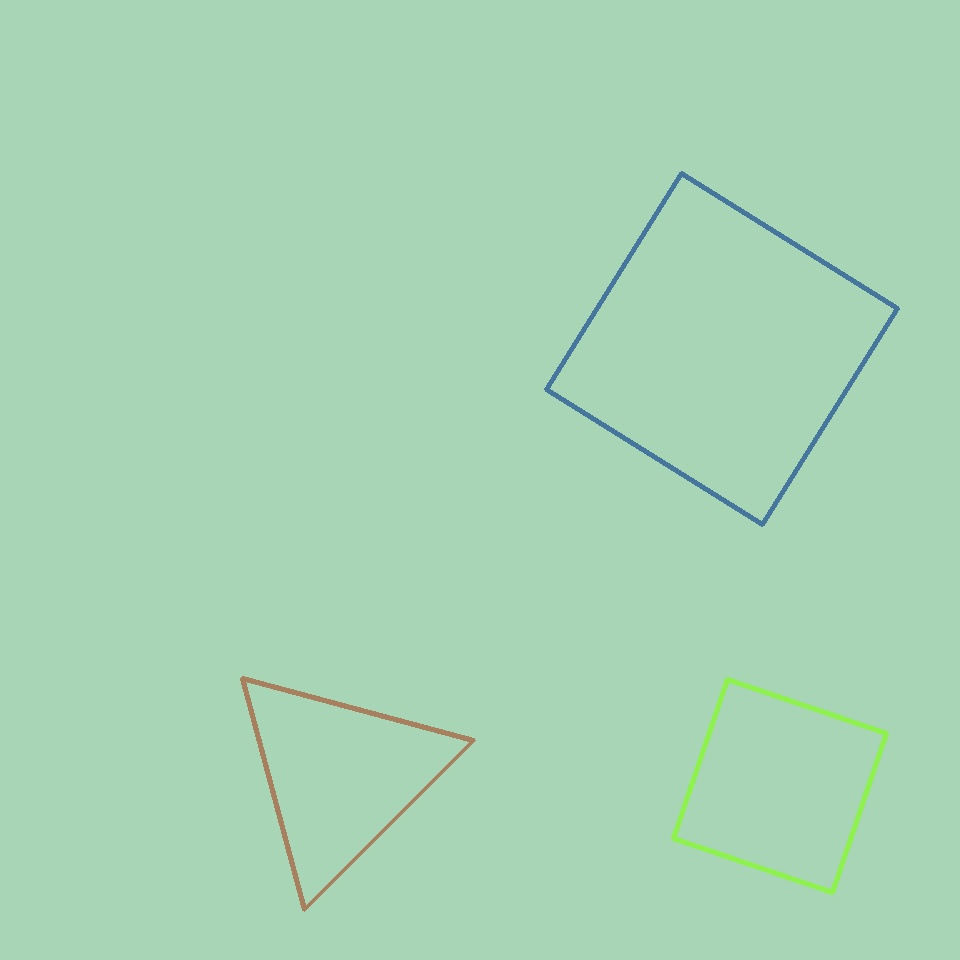circle: (225, 660, 456, 892)
square: (546, 174, 897, 524), (674, 680, 886, 892)
